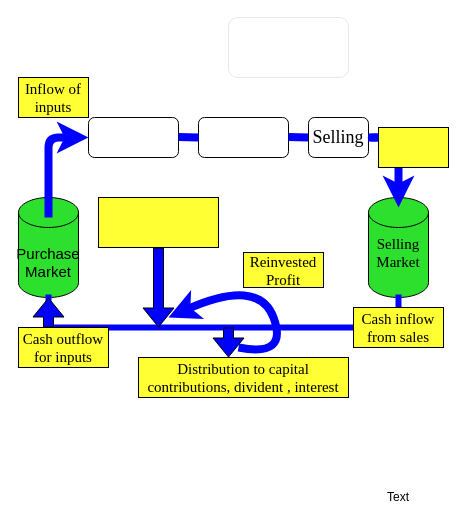
Some shapes in this 466 by 524 pixel diagram are drawn without their labels. The centre of each missing label's shape, as x and y in pixels:
Investment by owners and lenders: (x=158, y=222)
Outflow Product: (x=413, y=147)
Production: (x=243, y=137)
Purchasing: (x=133, y=137)
